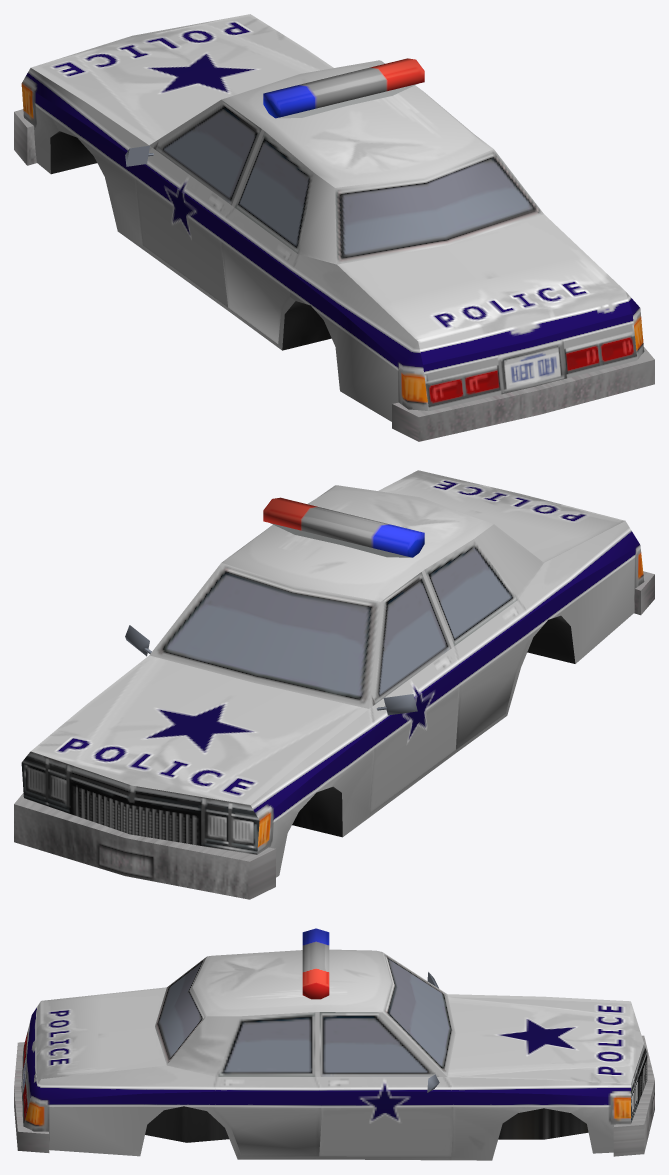
Rendered from Vehicles_CarNormalLights.FBX.
3 views of the same model, one above another, from view 1: azimuth 30°, elevation 25°; view 2: azimuth 150°, elevation 25°; view 3: azimuth 270°, elevation 25° (orthographic). The views are drawn at different scales.
Parts seen in each view (by area): view 1: Vehicles_CarNormalLights; view 2: Vehicles_CarNormalLights; view 3: Vehicles_CarNormalLights.
Part boxes in pixels (box(x1,y1,x2,y2)): Vehicles_CarNormalLights: box(14, 14, 654, 441); Vehicles_CarNormalLights: box(14, 470, 654, 899); Vehicles_CarNormalLights: box(14, 928, 654, 1160).
Bounding box in the file's own units: 106 × 74.55 × 262.
Materials: 2 (2 with a texture image).
